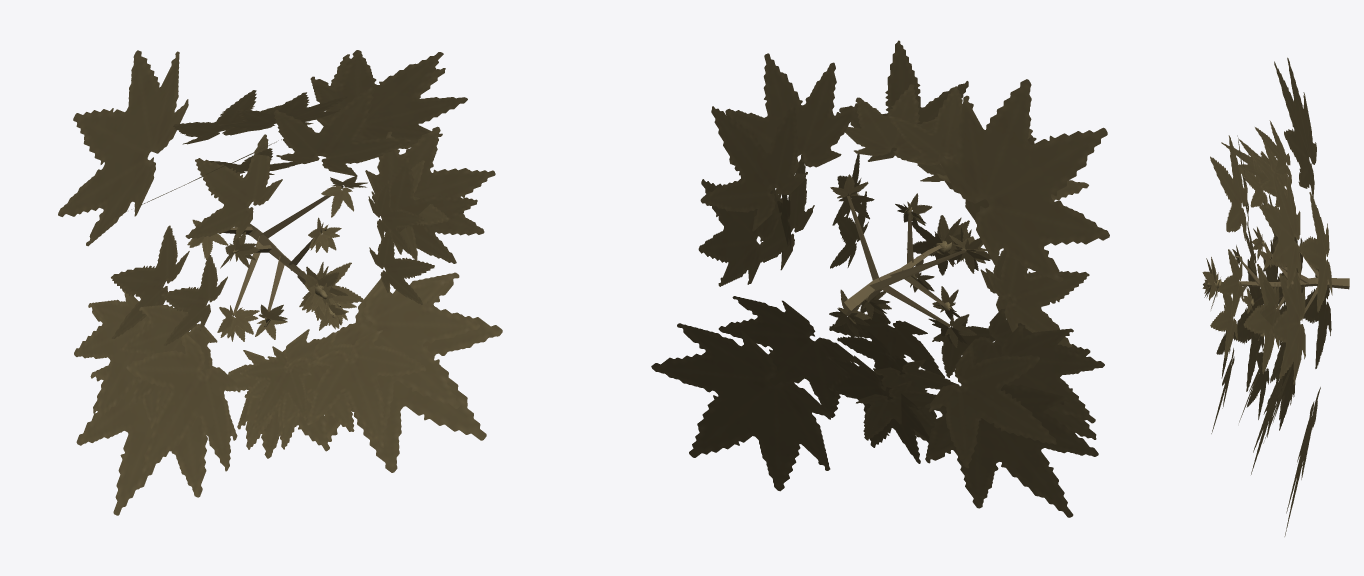
Rendered from p_hybrid_preflower_c4_cards.obj.
3 views of the same model, side by side, from view 1: azimuth 30°, elevation 25°; view 2: azimuth 150°, elevation 25°; view 3: azimuth 270°, elevation 25° (orthographic). The views are drawn at different scales.
Size of the model in its own units: 1.28 by 1.25 by 0.388.
Materials: 1 (1 with a texture image).
